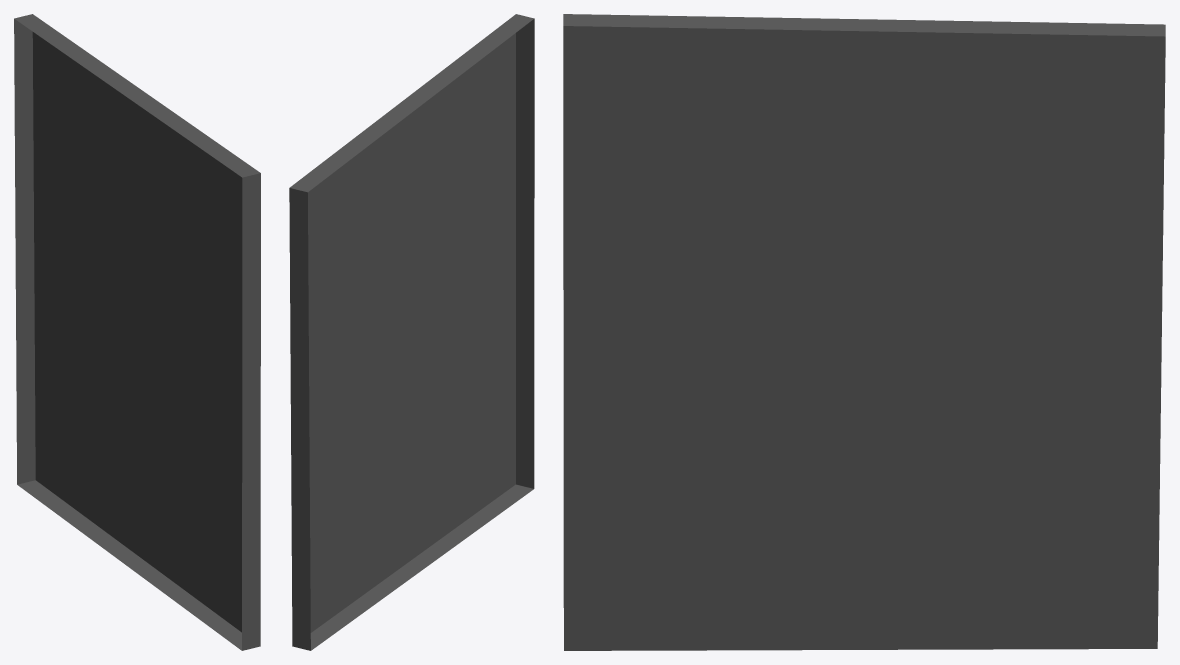
The model's file is Bathroom_Mirror.fbx.
The picture shows the model from 3 angles, left to right: view 1: azimuth 30°, elevation 25°; view 2: azimuth 150°, elevation 25°; view 3: azimuth 270°, elevation 25°; orthographic projection. The views are drawn at different scales.
Visible parts, largest first — view 1: Bathroom_Mirror; view 2: Bathroom_Mirror; view 3: Bathroom_Mirror.
Boxes of the visible parts, <box> form: Bathroom_Mirror: <box>14,14,260,650</box>; Bathroom_Mirror: <box>289,14,534,650</box>; Bathroom_Mirror: <box>563,14,1165,650</box>.
Size of the model in its own units: 7.1 by 173 by 151.
